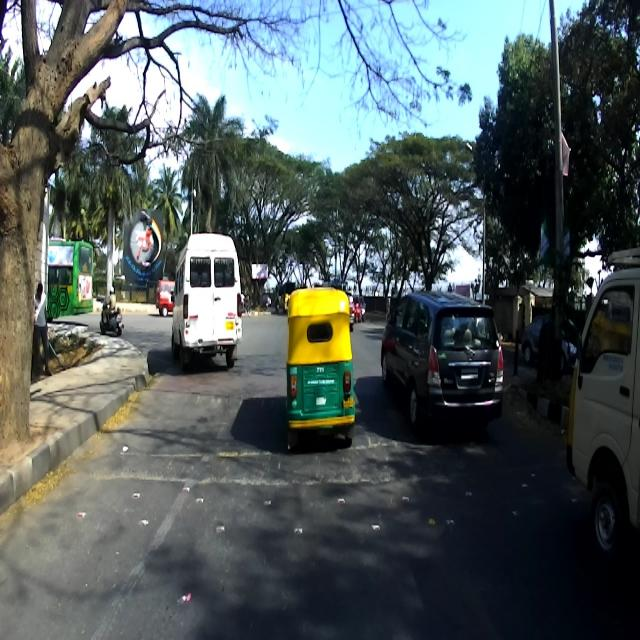Car_Maruti-Suzuki: (521, 312, 583, 372)
Car_Toyota: (380, 289, 504, 435)
autorickshaw: (285, 286, 355, 446)
mini-bus: (170, 231, 247, 365)
